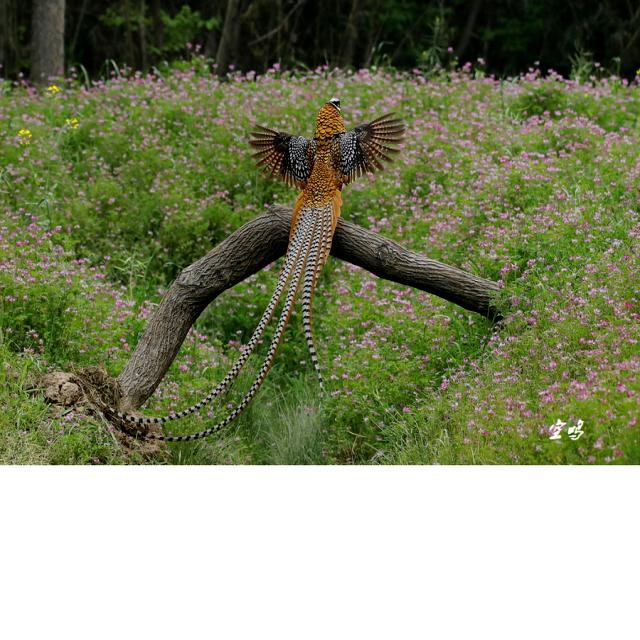Reeves-s Pheasant: (102, 189, 344, 441)
